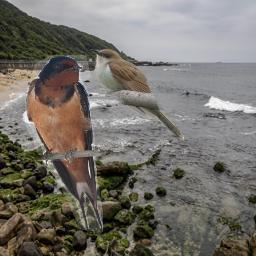Cuckoo: (90, 49, 185, 141)
Swallow: (25, 55, 103, 232)
